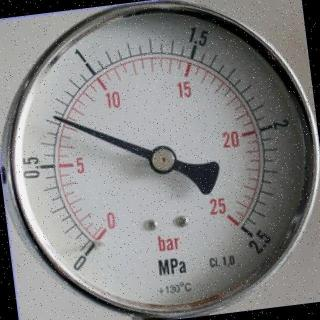gauge: (0, 0, 320, 320), (198, 193, 276, 262), (62, 207, 130, 277), (148, 143, 178, 175), (48, 111, 64, 125)
